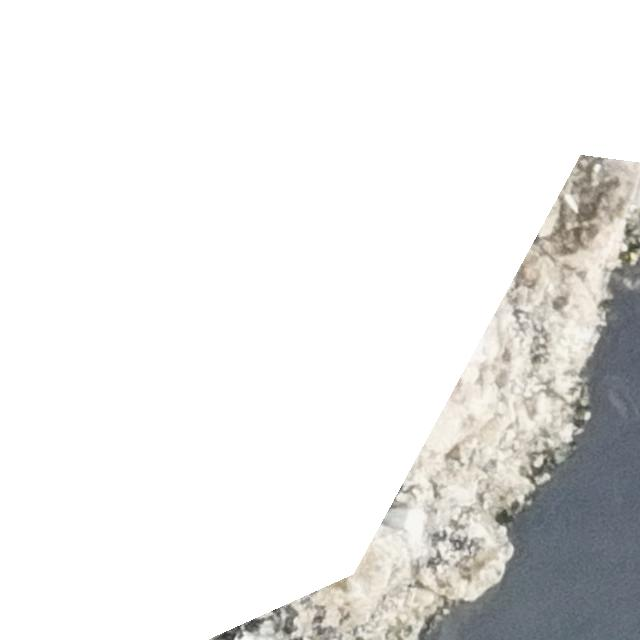umineko: (385, 506, 425, 531)
